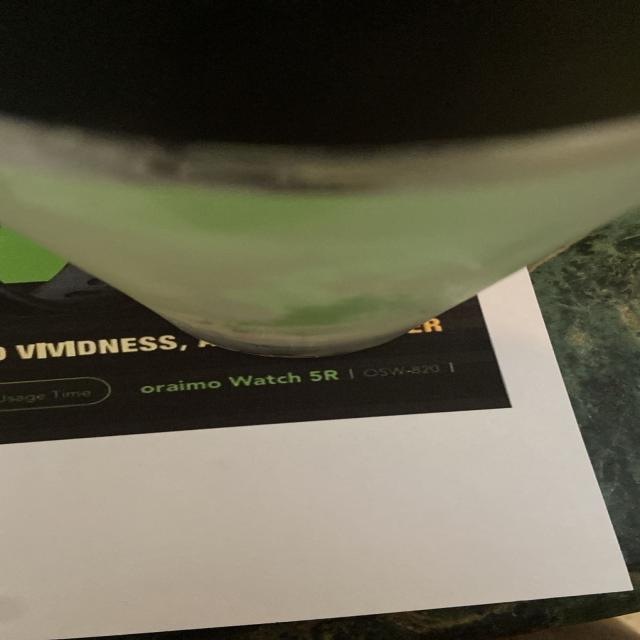Oraimo Watch 5R OSW-820: (139, 358, 461, 402)
